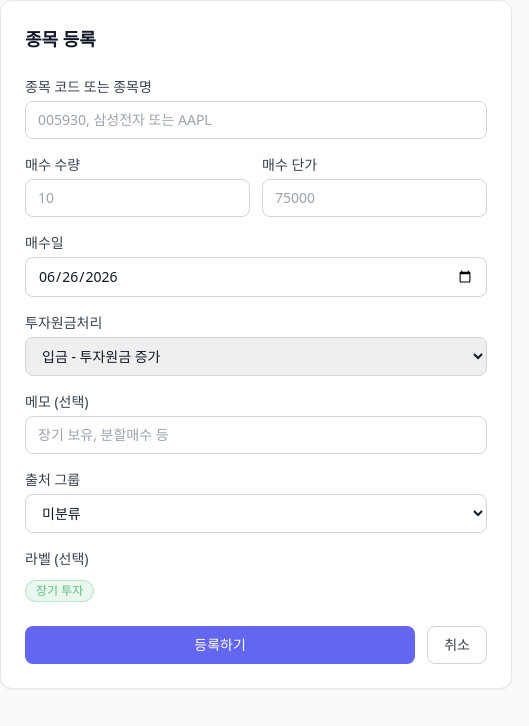
Test: HoldingForm › detects US market for alphabetic ticker
Step 1. Type "AAPL" into the field labelled "종목 코드 또는 종목명" → (256, 120), box [25,101,487,139]
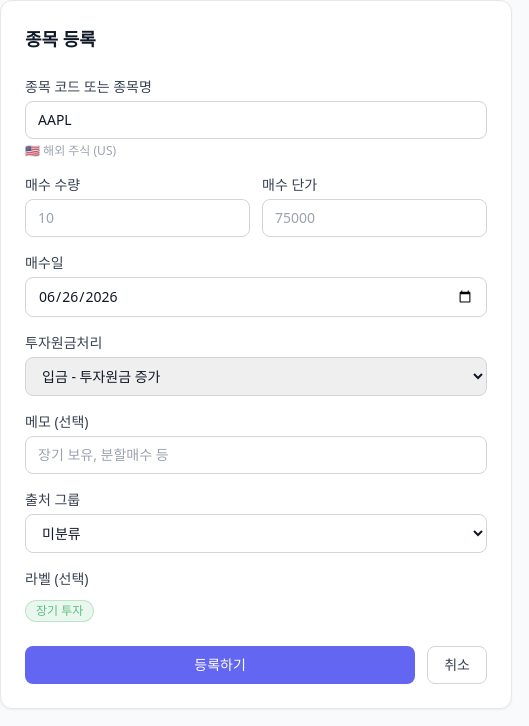
Expected: the text "🇺🇸 해외 주식 (US)" is shown, [25,142,116,159]
